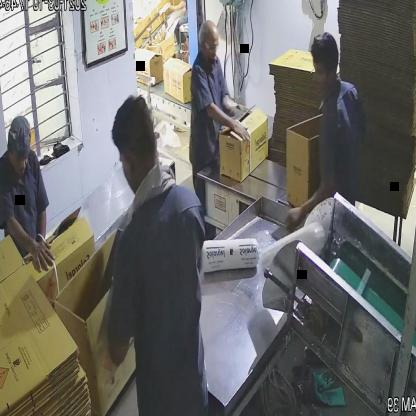no_glove: (279, 169, 341, 246), (0, 212, 55, 282), (199, 100, 259, 151)
